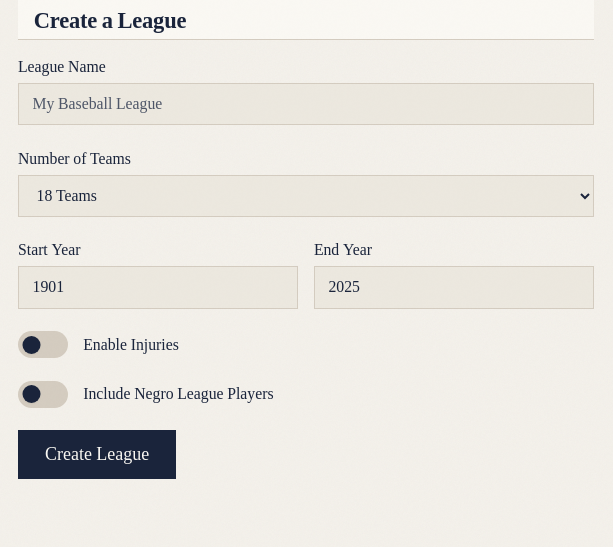
LeagueConfigPage › shows error and restores form on failure
This screenshot has width=613, height=547.
Type "Test League" into the field labelled "League Name" at (306, 104), box [18,83,594,125]
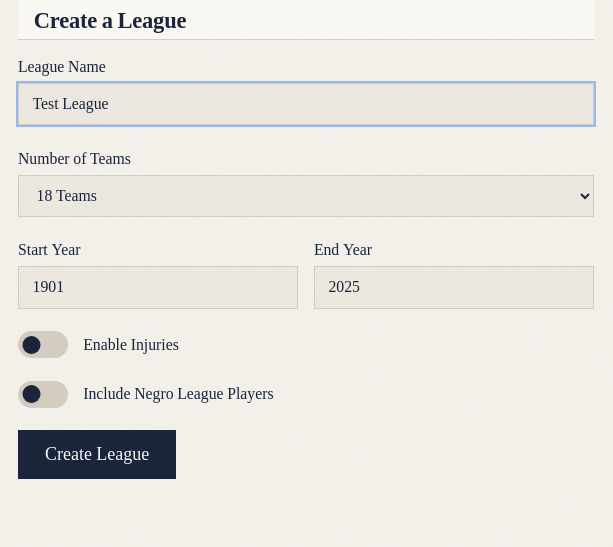
Click the button "Create League" at (97, 455), box [18,430,176,479]
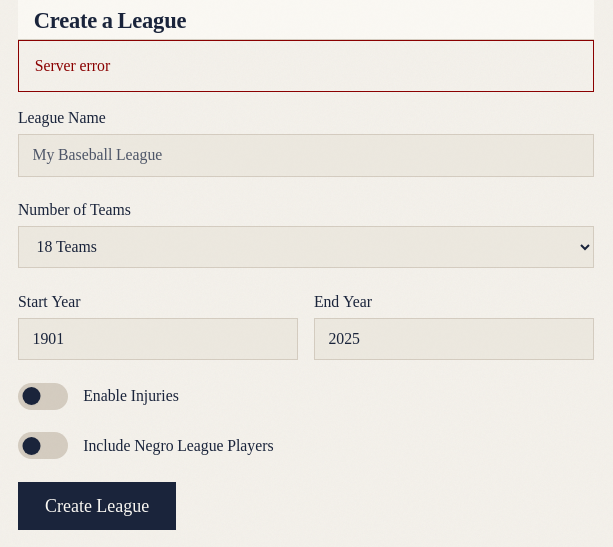
Result: the text "Server error" is shown at [35,54,110,77]
Result: the field labelled "League Name" is shown at [18,134,594,177]
